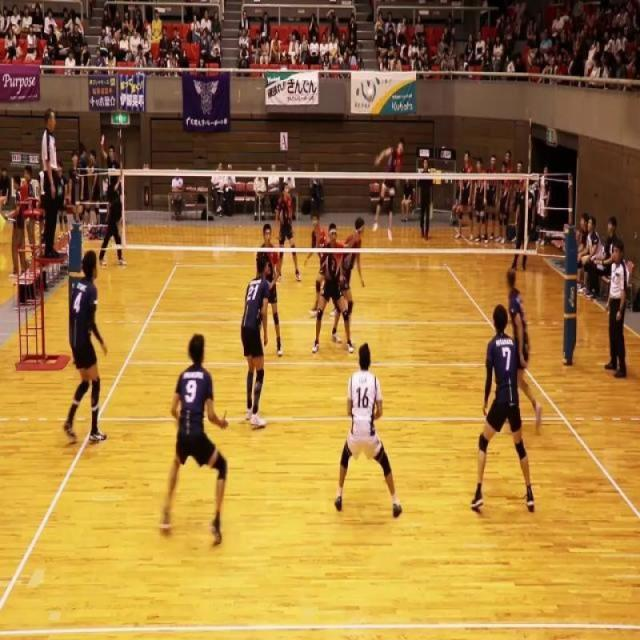volleyball: (367, 88, 374, 104)
